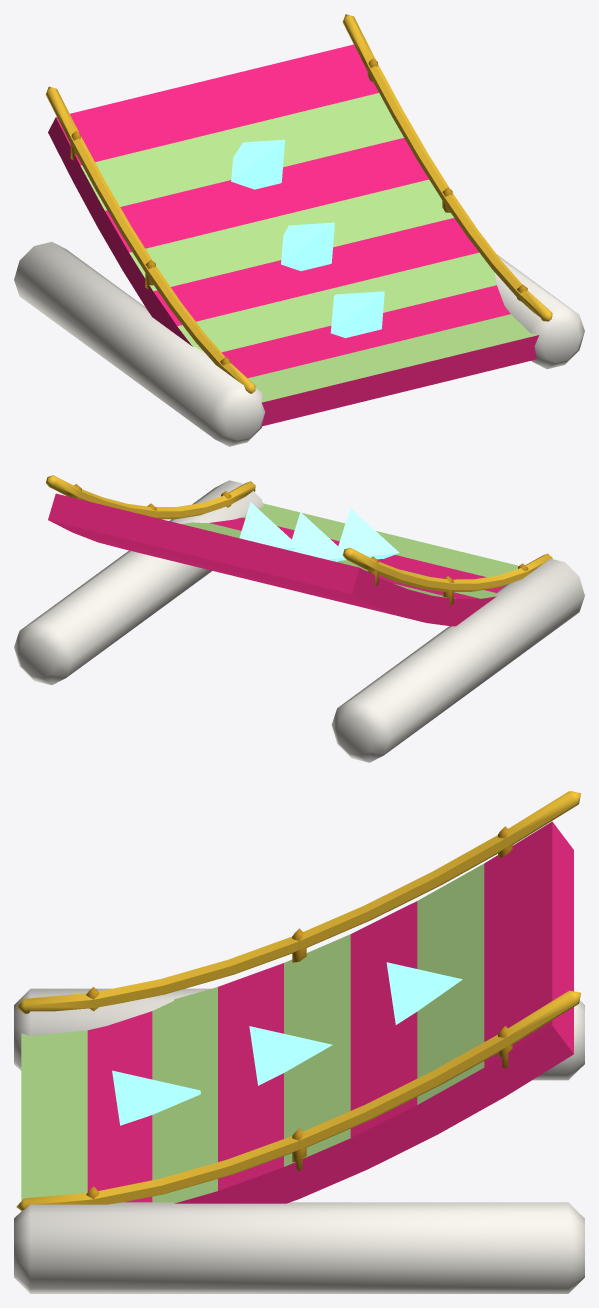
Rendered from Track_Ramp.fbx.
The picture shows the model from 3 angles, top to bottom: view 1: azimuth 30°, elevation 25°; view 2: azimuth 150°, elevation 25°; view 3: azimuth 270°, elevation 25°; orthographic projection. The views are drawn at different scales.
Parts seen in each view (by area): view 1: Track_Ramp; view 2: Track_Ramp; view 3: Track_Ramp.
Boxes of the visible parts, box(x1,y1,x2,y2) form: Track_Ramp: box(14, 14, 584, 446); Track_Ramp: box(14, 475, 584, 762); Track_Ramp: box(14, 791, 584, 1293).
Size of the model in its own units: 5.44 by 2.92 by 5.2.
